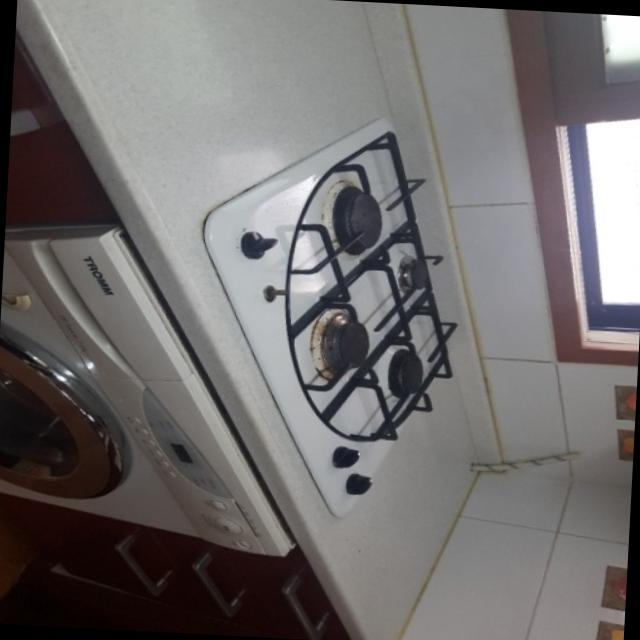knob_OFF: (291, 279, 388, 408), (305, 163, 412, 273), (375, 343, 448, 435), (391, 243, 458, 323)
